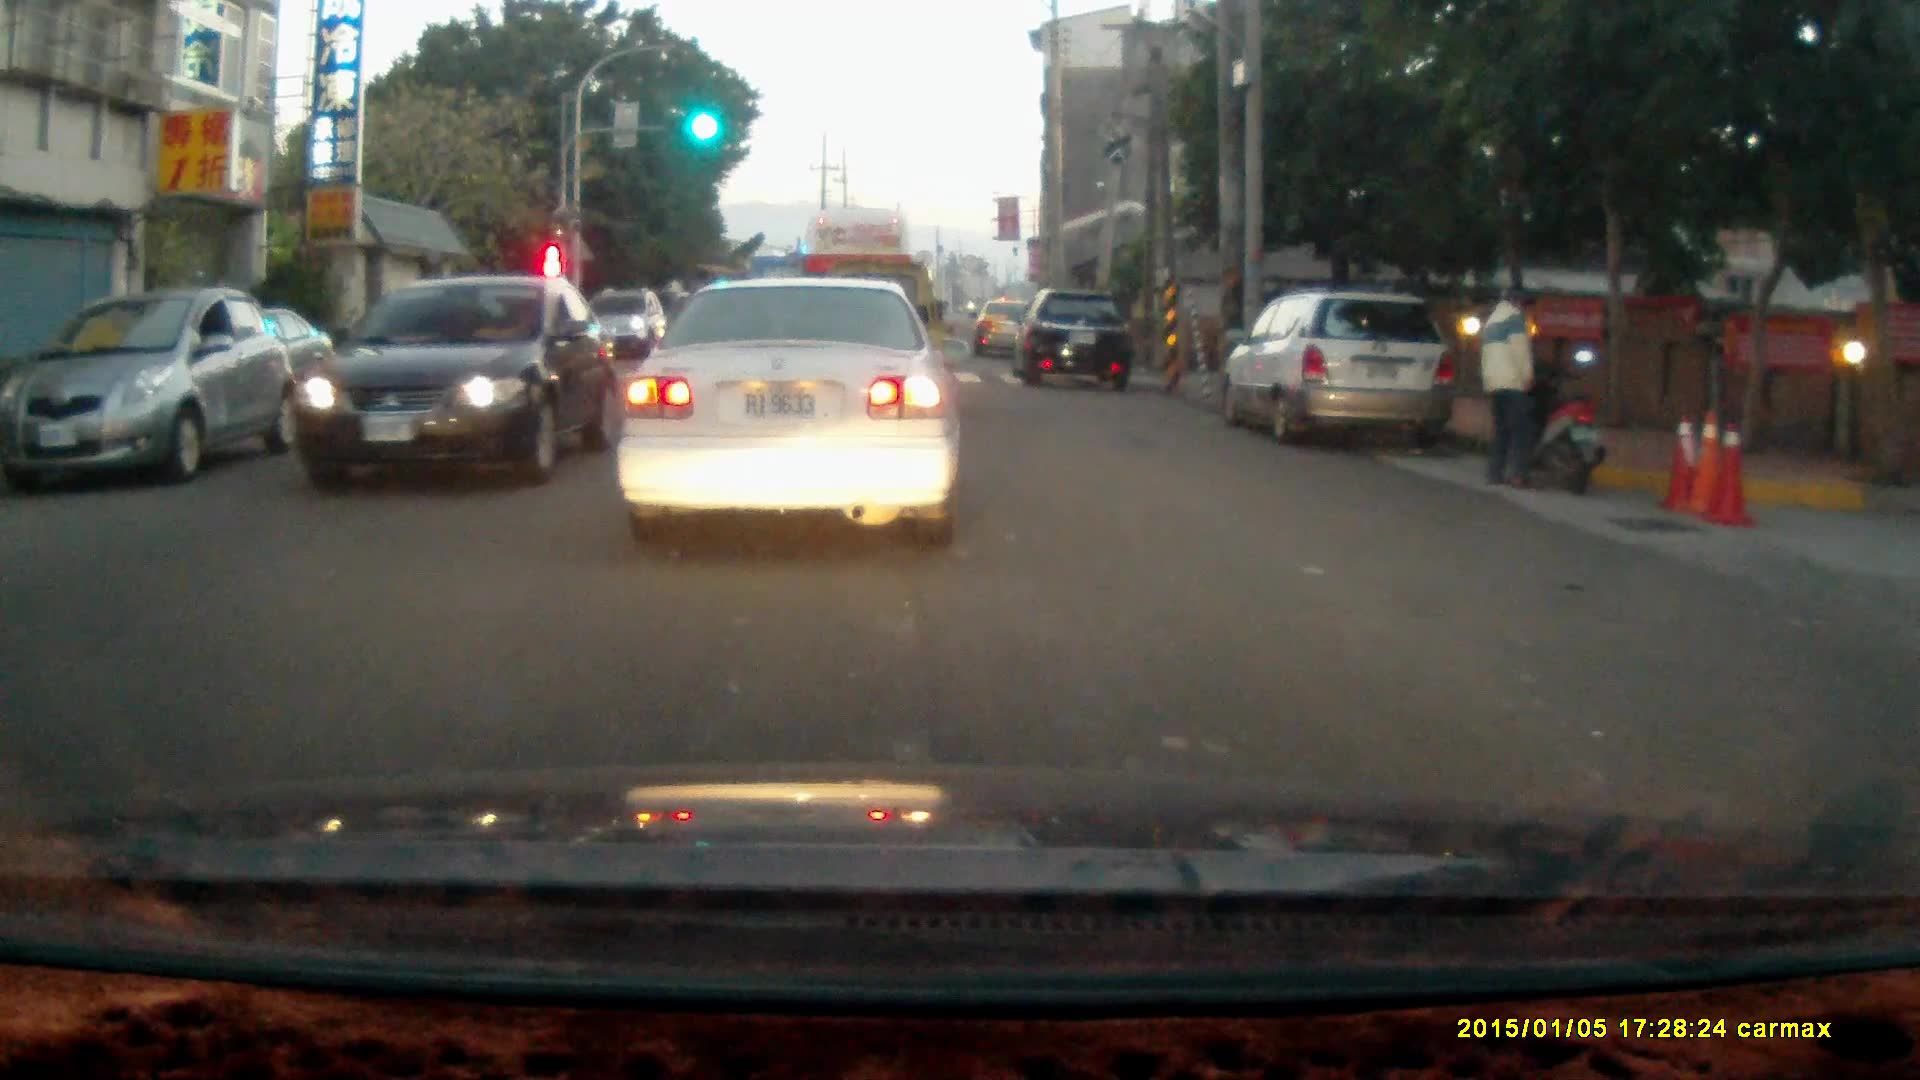pedestrian: (1477, 279, 1542, 490)
vehicle: (617, 273, 963, 545), (293, 274, 623, 491), (4, 289, 292, 485), (1233, 295, 1456, 455), (801, 206, 919, 379), (1017, 285, 1144, 390), (584, 286, 669, 363)
